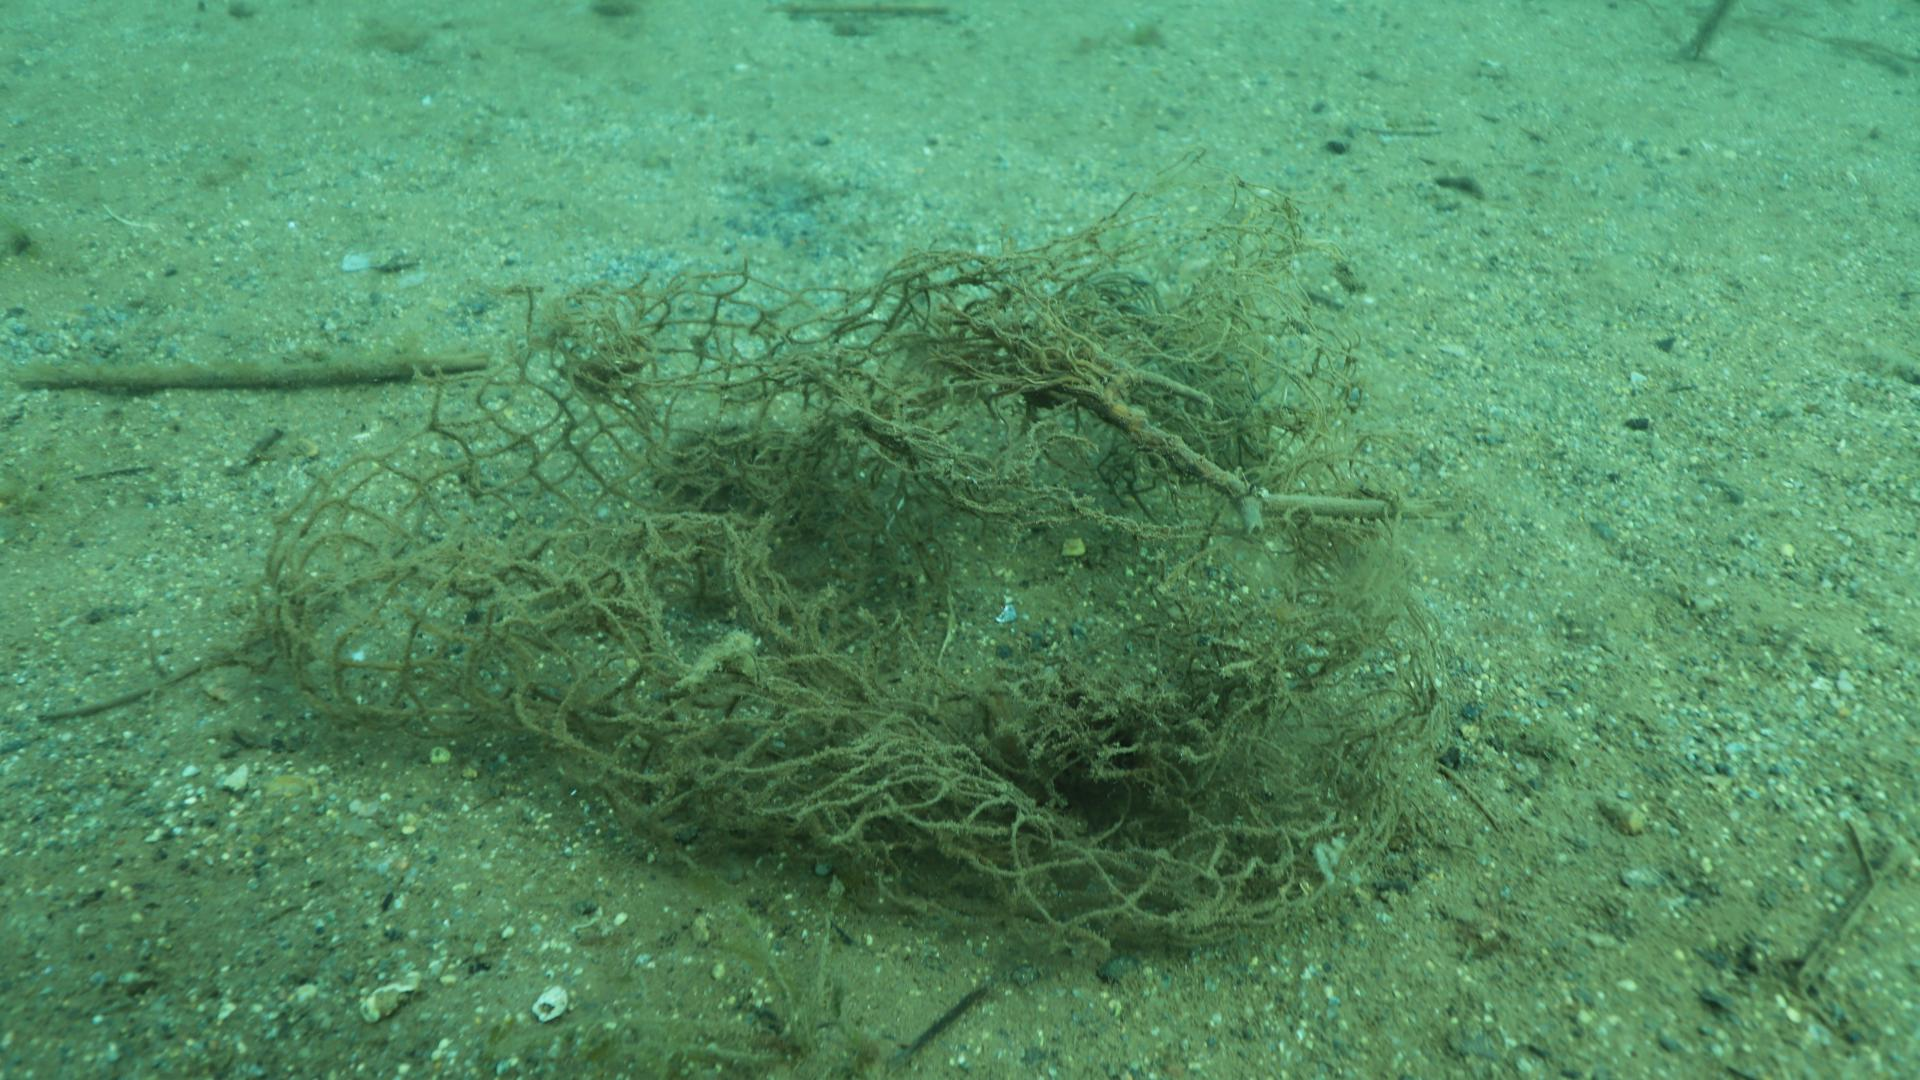fish net: (261, 328, 1420, 967)
